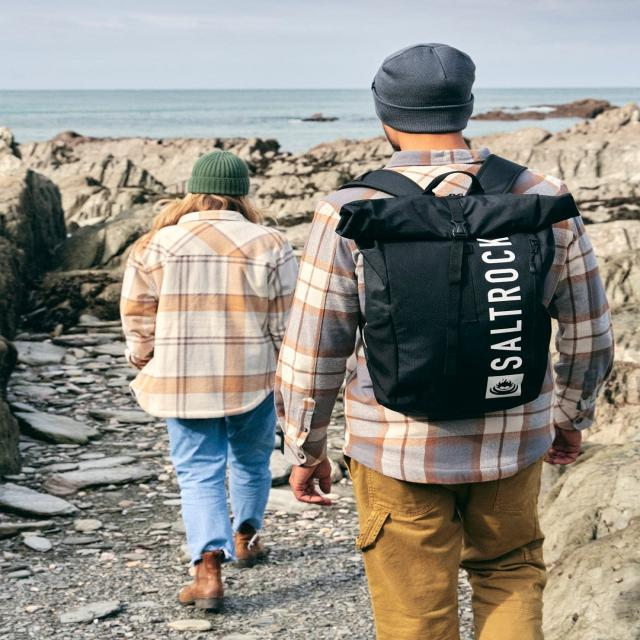backpack: (333, 155, 579, 423)
